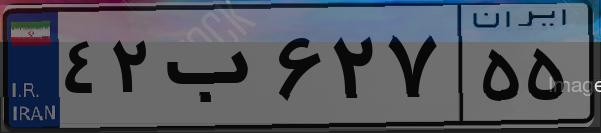2: (330, 28, 385, 110), (110, 28, 158, 98)
4: (57, 26, 110, 100)
5: (475, 38, 525, 113), (525, 38, 570, 115)
6: (270, 28, 330, 110)
7: (385, 28, 445, 110)
ب: (158, 20, 270, 120)
